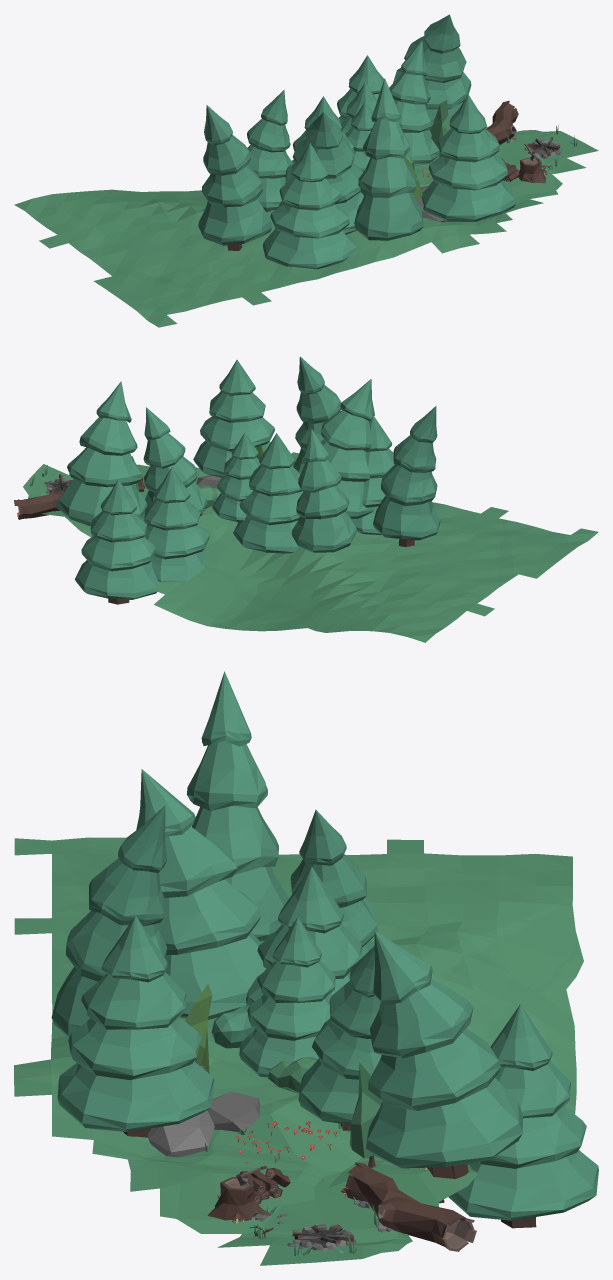
File: campfireGame.fbx
3 renders of one model, top to bottom at view 1: azimuth 30°, elevation 25°; view 2: azimuth 150°, elevation 25°; view 3: azimuth 270°, elevation 25°, orthographic. The views are drawn at different scales.
Visible parts, largest first — view 1: Плоскость, spruce_2, spruce_2_5, spruce_2_1, spruce_2_3, spruce_1, spruce_1_2, spruce_1_3, spruce_1_1, spruce_2_4, spruce_2_2, log_2 (+5 smaller); view 2: Плоскость, spruce_2_4, spruce_1, spruce_2_3, spruce_2_6, spruce_2_7, spruce_1_3, spruce_2, spruce_1_2, spruce_1_1, spruce_2_1, spruce_2_2 (+2 smaller); view 3: Плоскость, spruce_1, spruce_2, spruce_2_4, spruce_1_2, spruce_2_3, spruce_2_1, spruce_2_2, spruce_1_1, spruce_2_6, log_2, spruce_1_3 (+8 smaller).
Part boxes in pixels (x1,y1,x2,y2): Плоскость: [14, 126, 598, 327]; spruce_2: [422, 94, 516, 221]; spruce_2_5: [262, 142, 356, 269]; spruce_2_1: [354, 78, 423, 240]; spruce_2_3: [198, 105, 272, 250]; spruce_1: [393, 14, 471, 137]; spruce_1_2: [278, 112, 363, 234]; spruce_1_3: [247, 90, 293, 211]; spruce_1_1: [389, 40, 439, 168]; spruce_2_4: [337, 55, 384, 122]; spruce_2_2: [345, 101, 374, 172]; log_2: [486, 100, 518, 144]; Плоскость: [23, 452, 598, 642]; spruce_2_4: [74, 479, 157, 604]; spruce_1: [56, 381, 147, 529]; spruce_2_3: [373, 406, 440, 546]; spruce_2_6: [233, 433, 302, 553]; spruce_2_7: [144, 467, 209, 582]; spruce_1_3: [291, 428, 356, 552]; spruce_2: [193, 360, 274, 477]; spruce_1_2: [320, 379, 374, 518]; spruce_1_1: [143, 407, 207, 515]; spruce_2_1: [293, 356, 341, 473]; spruce_2_2: [212, 432, 260, 522]; Плоскость: [14, 837, 583, 1265]; spruce_1: [366, 931, 522, 1178]; spruce_2: [57, 915, 214, 1137]; spruce_2_4: [448, 1004, 598, 1228]; spruce_1_2: [136, 769, 266, 1019]; spruce_2_3: [186, 671, 288, 941]; spruce_2_1: [51, 805, 167, 1037]; spruce_2_2: [239, 917, 335, 1077]; spruce_1_1: [298, 946, 381, 1130]; spruce_2_6: [246, 866, 362, 1005]; log_2: [344, 1162, 476, 1251]; spruce_1_3: [281, 809, 377, 957].
Bounding box in the file's own units: 1673 × 631 × 970.
20 materials, 2 textured.
